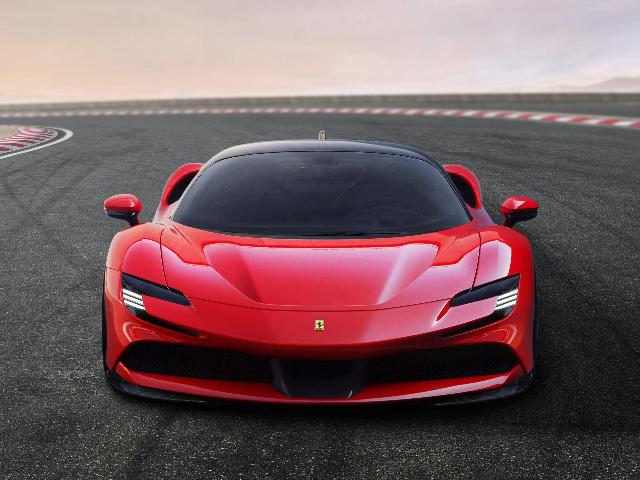ferrari: (104, 130, 538, 410)
